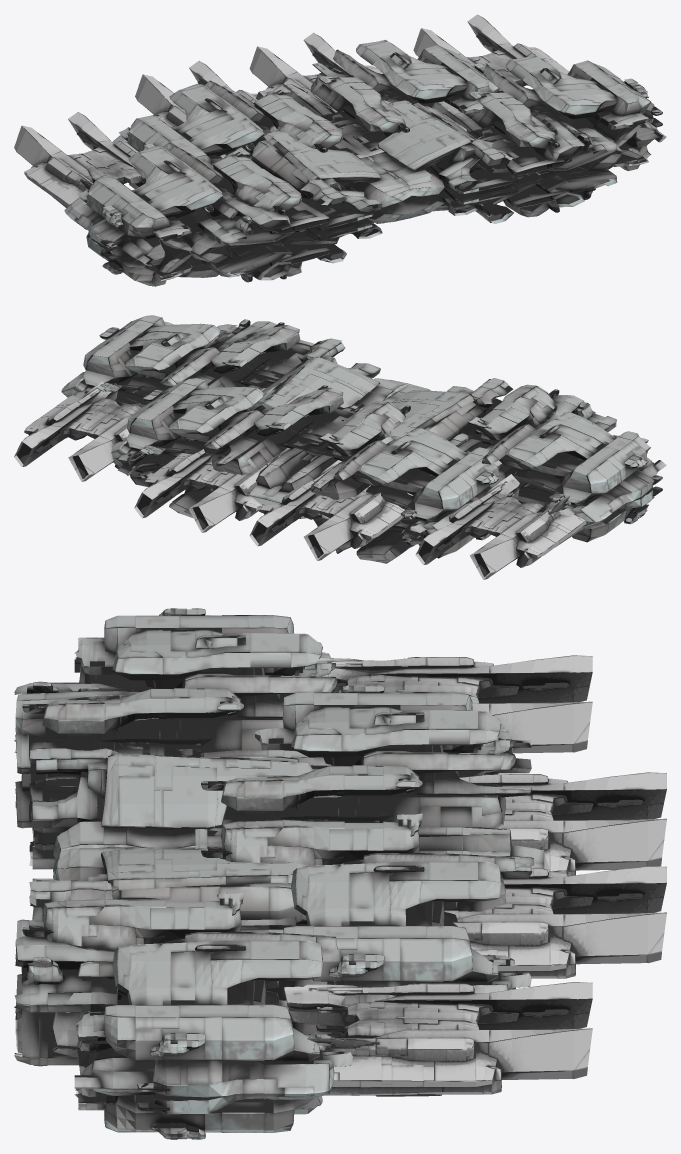
Rendered from BATTLESHIP_000.fbx.
3 renders of one model, top to bottom at view 1: azimuth 30°, elevation 25°; view 2: azimuth 150°, elevation 25°; view 3: azimuth 270°, elevation 25°, orthographic. The views are drawn at different scales.
Parts seen in each view (by area): view 1: BATTLESHIP_000; view 2: BATTLESHIP_000; view 3: BATTLESHIP_000.
Boxes of the visible parts, bbox=[...] form: BATTLESHIP_000: bbox=[14, 14, 666, 286]; BATTLESHIP_000: bbox=[14, 315, 666, 579]; BATTLESHIP_000: bbox=[14, 608, 666, 1139].
Bounding box in the file's own units: 212 × 36.2 × 129.
